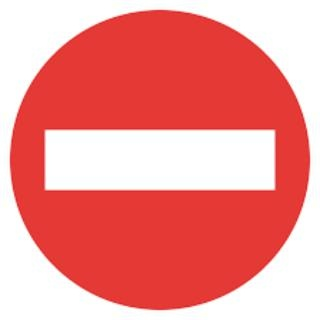sign_noentry: (13, 9, 309, 311)
